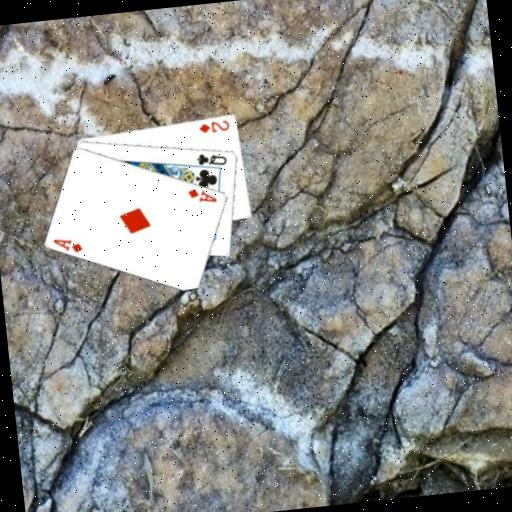2D: (195, 117, 231, 136)
AD: (185, 183, 219, 207), (50, 233, 84, 256)
QC: (193, 148, 229, 170)
